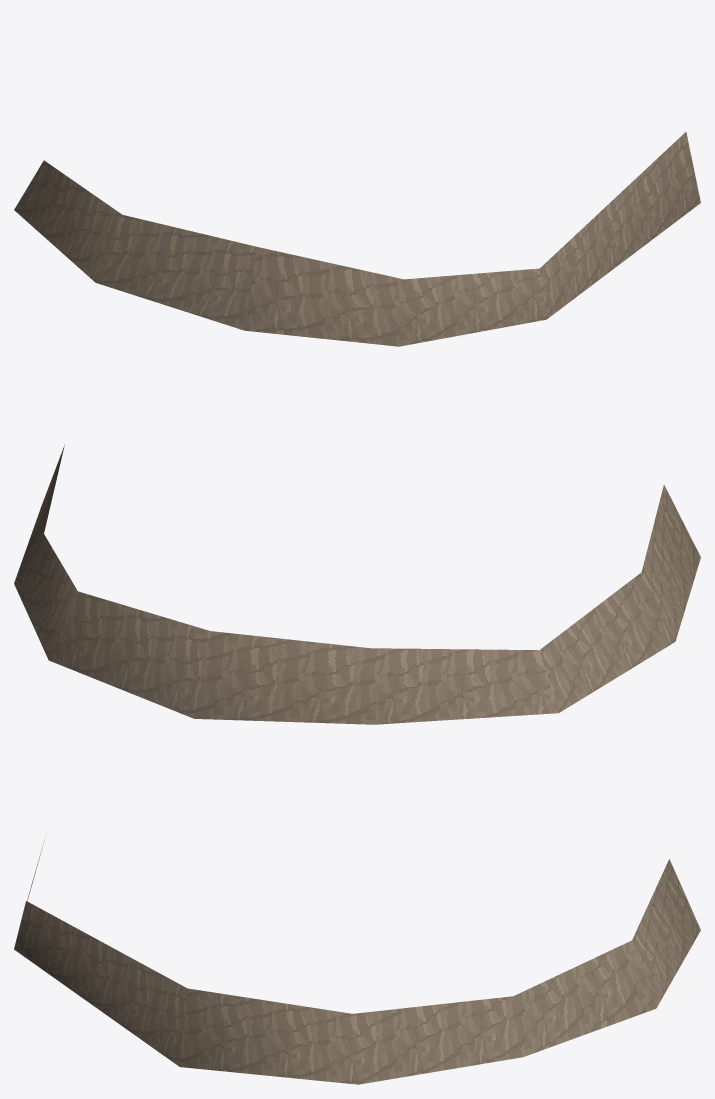
File: kd_stage_136599_10_12_bounded.glb
3 renders of one model, top to bottom at view 1: azimuth 30°, elevation 25°; view 2: azimuth 150°, elevation 25°; view 3: azimuth 270°, elevation 25°, orthographic. The views are drawn at different scales.
Visible parts, largest first — view 1: kd_stage_136599_10_12_bounded; view 2: kd_stage_136599_10_12_bounded; view 3: kd_stage_136599_10_12_bounded.
Part boxes in pixels (<box>): kd_stage_136599_10_12_bounded: <box>14,132,700,346</box>; kd_stage_136599_10_12_bounded: <box>14,445,700,724</box>; kd_stage_136599_10_12_bounded: <box>14,840,700,1084</box>.
Bounding box in the file's own units: 49.72 × 5.94 × 50.6.
Materials: 1 (1 with a texture image).
